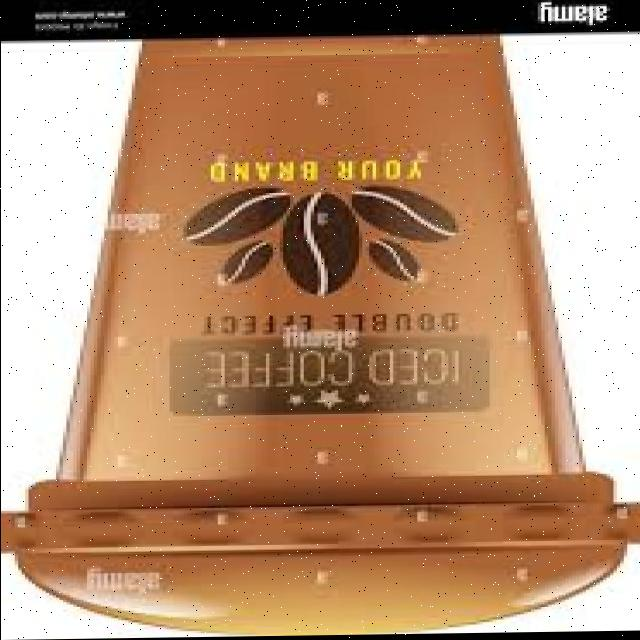cup: (1, 42, 137, 511), (503, 37, 638, 504)
